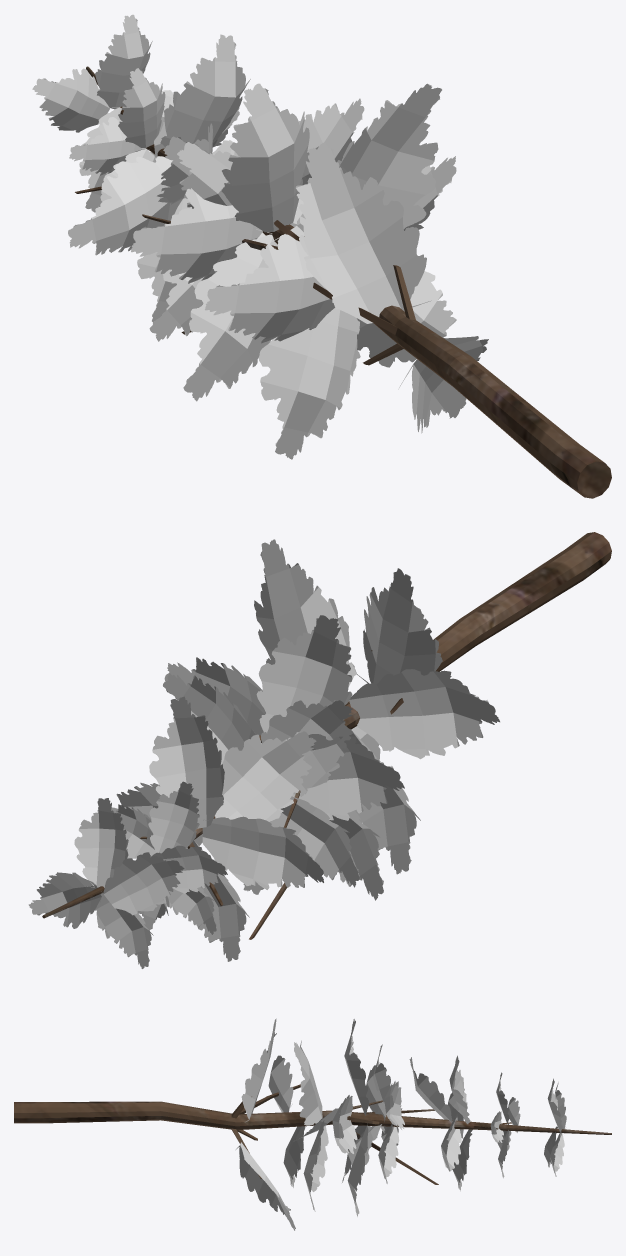
Rendered from Tree3.fbx.
3 views of the same model, one above another, from view 1: azimuth 30°, elevation 25°; view 2: azimuth 150°, elevation 25°; view 3: azimuth 270°, elevation 25° (orthographic). The views are drawn at different scales.
Parts seen in each view (by area): view 1: Tree3Merged; view 2: Tree3Merged; view 3: Tree3Merged.
Boxes of the visible parts, x1,y1,x2,y2 form: Tree3Merged: (32, 14, 611, 498); Tree3Merged: (28, 532, 611, 968); Tree3Merged: (14, 1018, 611, 1230).
Size of the model in its own units: 820 by 930 by 2349.
Materials: 2 (1 with a texture image).
